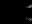person: (26, 3, 31, 11), (26, 19, 31, 23), (14, 19, 18, 23)
